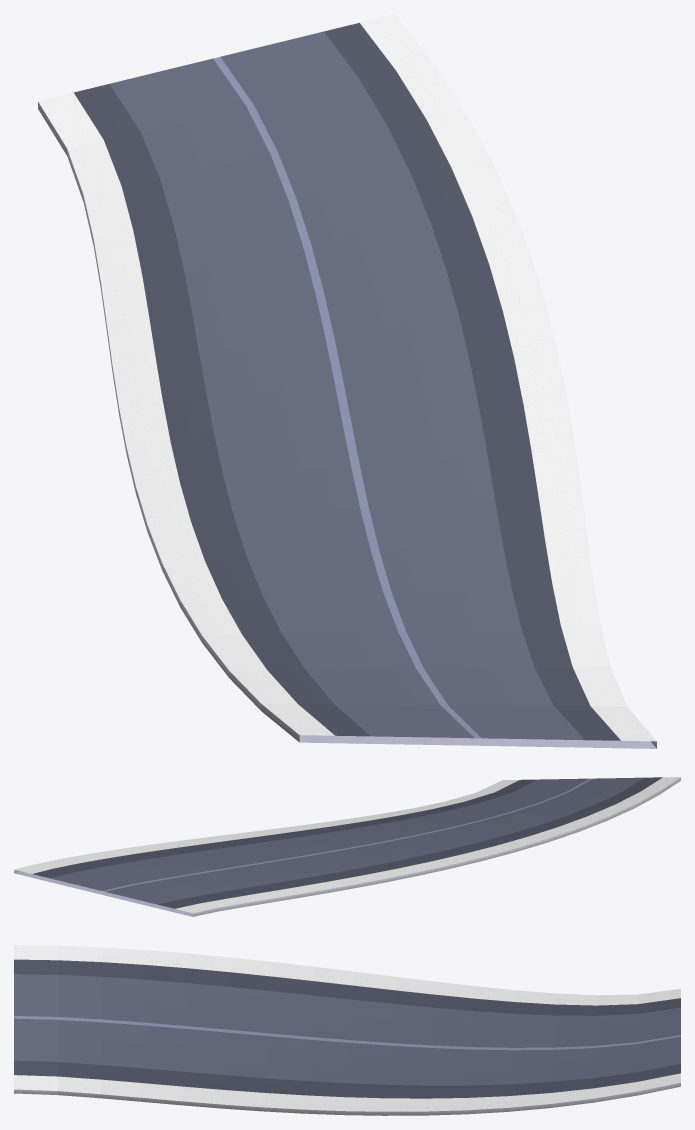
The model's file is road-Chicane-HalfBankedRight-BiSlopeUp-Up2-Right1-Size3.glb.
The picture shows the model from 3 angles, top to bottom: view 1: azimuth 30°, elevation 25°; view 2: azimuth 150°, elevation 25°; view 3: azimuth 270°, elevation 25°; orthographic projection. The views are drawn at different scales.
Visible parts, largest first — view 1: road-Chicane-HalfBankedRight-BiSlopeUp-Up2-Right1-Size3; view 2: road-Chicane-HalfBankedRight-BiSlopeUp-Up2-Right1-Size3; view 3: road-Chicane-HalfBankedRight-BiSlopeUp-Up2-Right1-Size3.
Part boxes in pixels (x1=…): road-Chicane-HalfBankedRight-BiSlopeUp-Up2-Right1-Size3: x1=38, y1=14, x2=656, y2=748; road-Chicane-HalfBankedRight-BiSlopeUp-Up2-Right1-Size3: x1=14, y1=777, x2=680, y2=916; road-Chicane-HalfBankedRight-BiSlopeUp-Up2-Right1-Size3: x1=14, y1=945, x2=680, y2=1115.
Bounding box in the file's own units: 2 × 0.52 × 3.
1 material, 1 textured.
